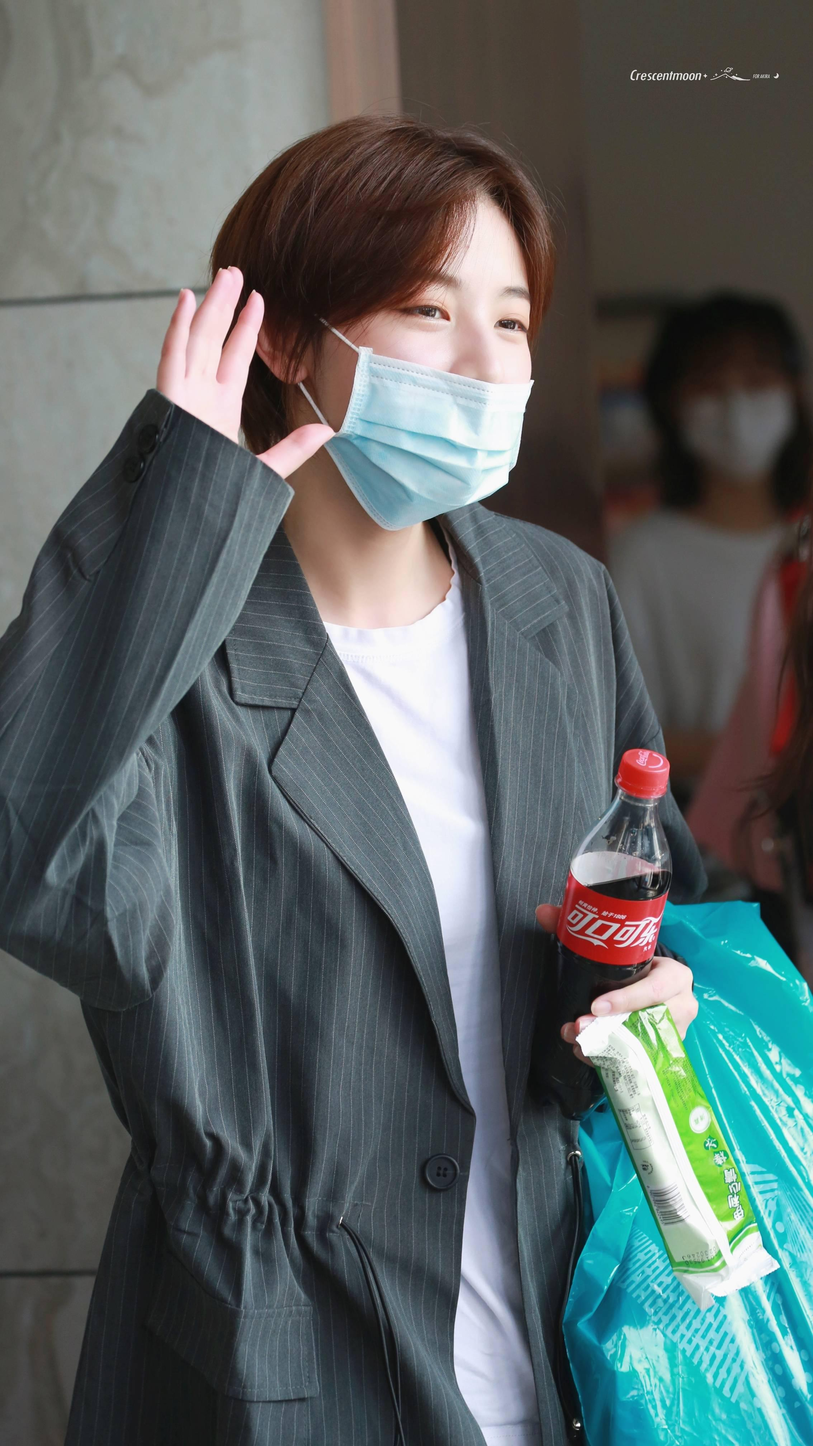OK: (670, 355, 799, 478)
WRONG: (331, 243, 533, 517)
